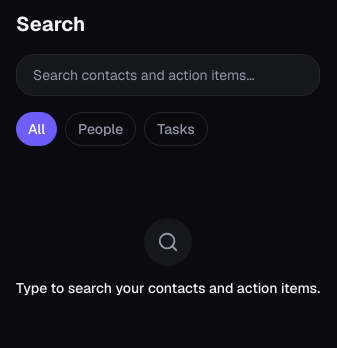
Test: SearchPage › shows empty-state copy per section when a search returns nothing
This screenshot has width=337, height=348.
Type "nomatch" into the field with placeholder "Search contacts and action items…" at (168, 75), box [16,54,320,96]
Wait 300 ms
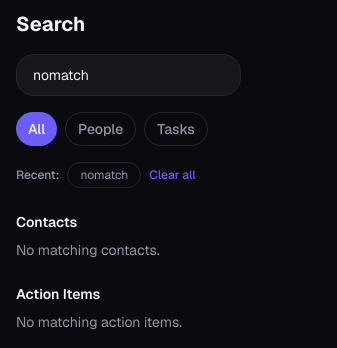
Expected: the text "No matching contacts." is shown, [16,241,160,259]
Expected: the text "No matching action items." is shown, [16,313,182,331]
